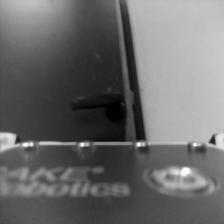Door Handle: (71, 92, 129, 125)
